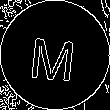M_N: (30, 28, 80, 82)
